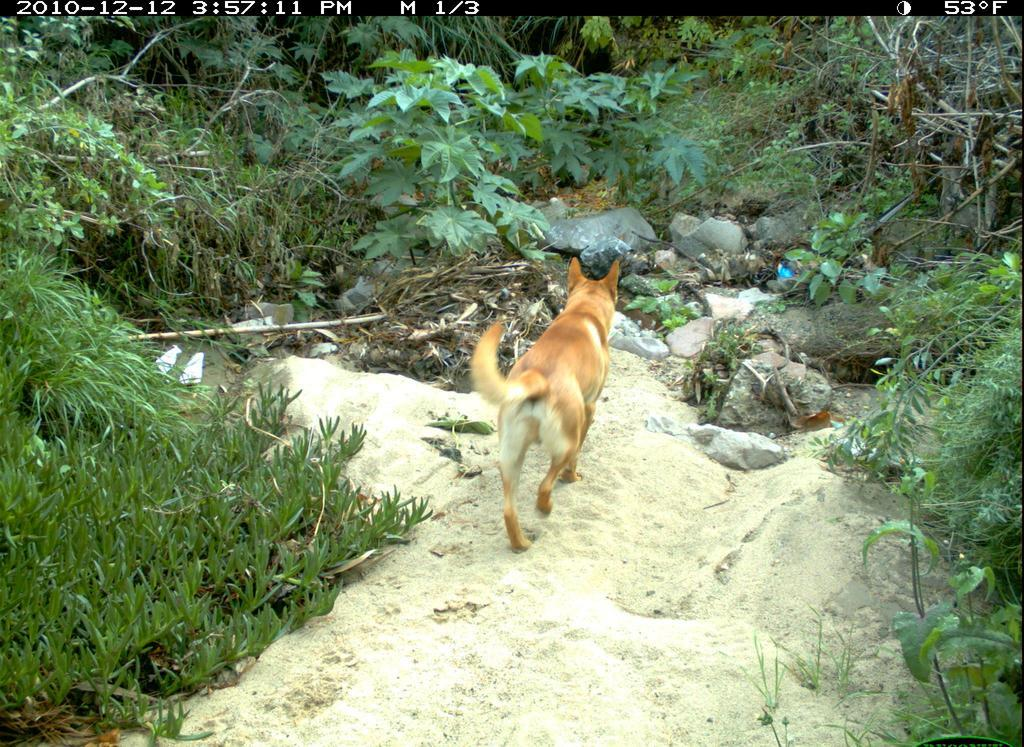dog: (464, 249, 633, 568)
